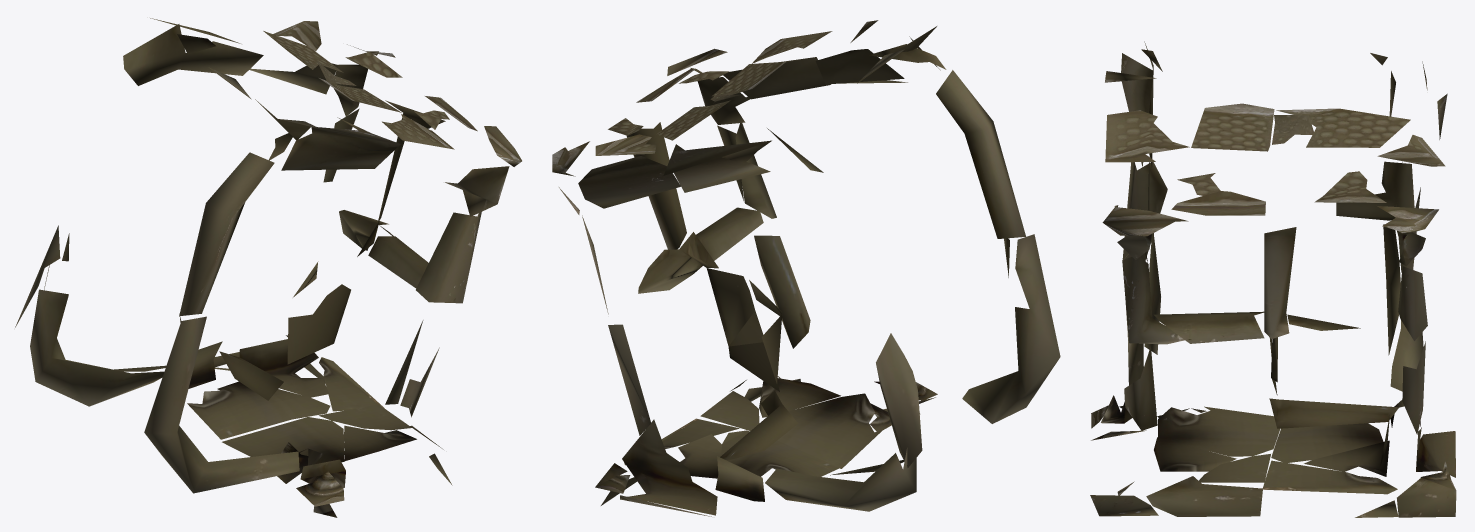
The model's file is footrest.glb.
3 views of the same model, side by side, from view 1: azimuth 30°, elevation 25°; view 2: azimuth 150°, elevation 25°; view 3: azimuth 270°, elevation 25° (orthographic). The views are drawn at different scales.
Visible parts, largest first — view 1: tripo_node_ba526edf-1a9d-4c50-9ebb-41c71d02a692; view 2: tripo_node_ba526edf-1a9d-4c50-9ebb-41c71d02a692; view 3: tripo_node_ba526edf-1a9d-4c50-9ebb-41c71d02a692.
Boxes of the visible parts, <box> form: tripo_node_ba526edf-1a9d-4c50-9ebb-41c71d02a692: <box>15,18,521,517</box>; tripo_node_ba526edf-1a9d-4c50-9ebb-41c71d02a692: <box>552,20,1060,516</box>; tripo_node_ba526edf-1a9d-4c50-9ebb-41c71d02a692: <box>1090,41,1456,517</box>.
Bounding box in the file's own units: 0.96 × 0.9905 × 0.7976.
1 material, 1 textured.
